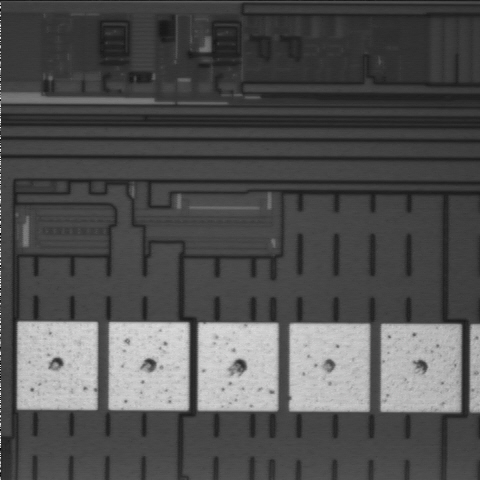pad: (109, 322, 189, 410), (198, 323, 278, 411), (18, 322, 97, 410), (290, 324, 369, 411), (381, 324, 460, 411)
